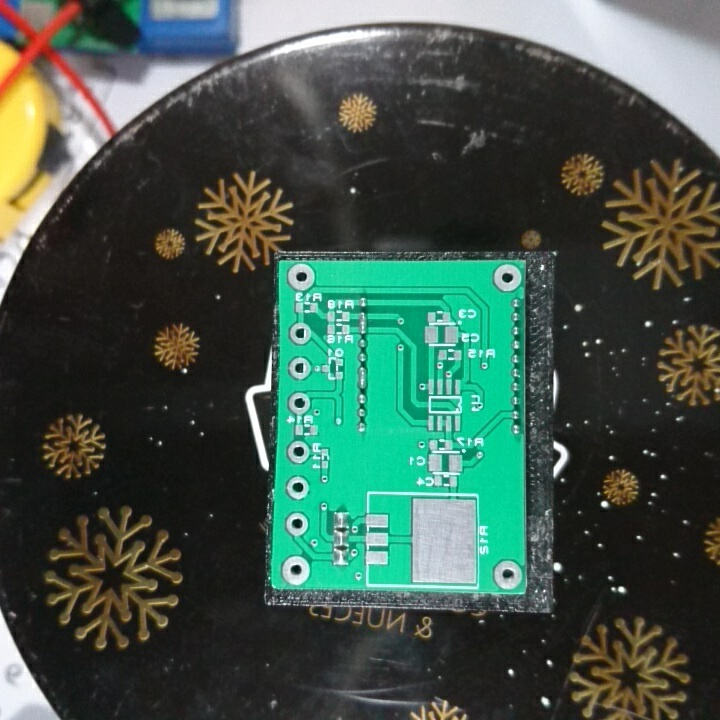F: (280, 553, 314, 588), (490, 260, 522, 294), (286, 261, 317, 294), (493, 559, 526, 589), (286, 354, 314, 383), (284, 510, 312, 539), (286, 318, 313, 347), (286, 474, 313, 503), (285, 437, 311, 467), (286, 388, 313, 414)
P: (355, 362, 374, 393), (356, 308, 373, 336)
